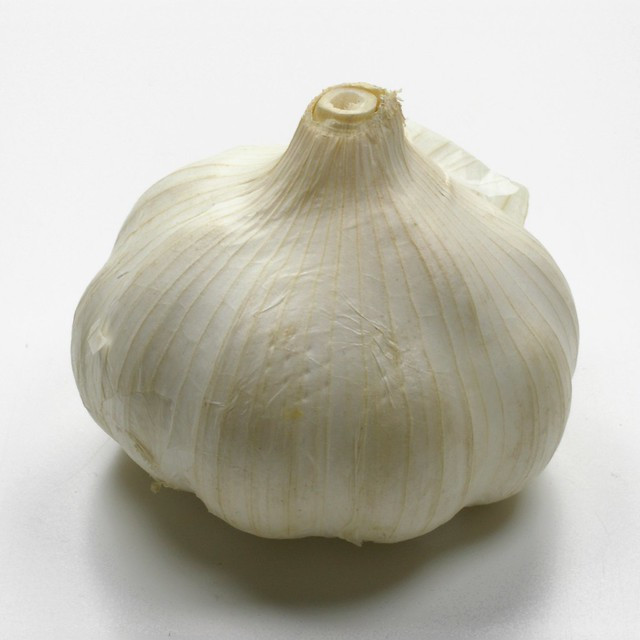garlic: (67, 77, 585, 551)
